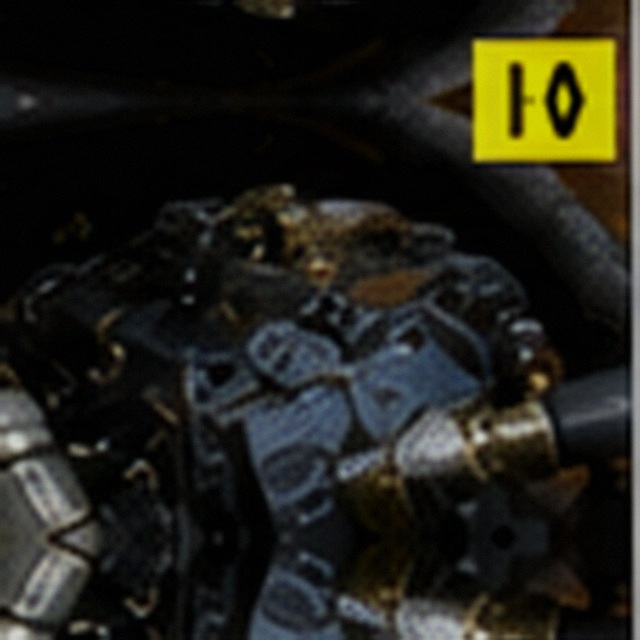hydraulic_oil_leak: (195, 249, 477, 429)
